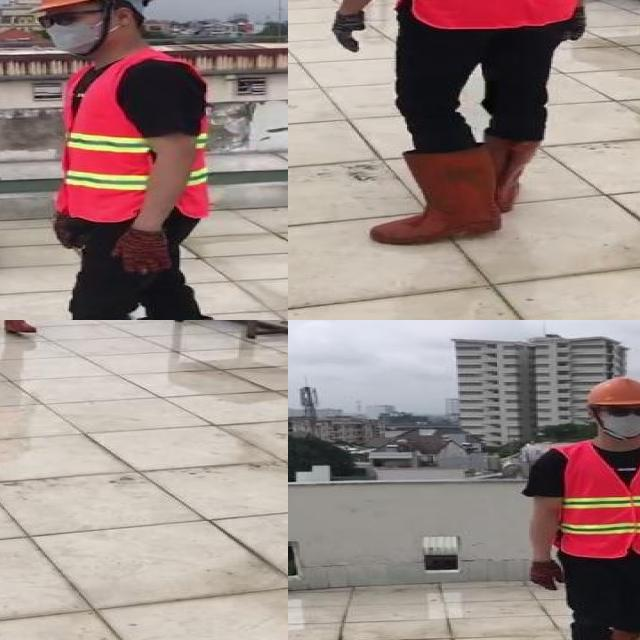boots: (377, 151, 498, 244), (488, 136, 538, 216), (0, 320, 39, 334)
face_mask: (34, 9, 104, 55), (599, 404, 640, 439)
glasses: (33, 8, 87, 32), (595, 402, 640, 420)
hand_glove: (114, 229, 172, 275), (329, 9, 368, 54), (50, 220, 88, 250), (527, 560, 565, 590), (564, 3, 588, 42)
head_helmet: (581, 374, 640, 409), (36, 0, 155, 11)
person: (314, 0, 611, 254), (0, 0, 220, 320), (518, 375, 640, 640)
vest: (57, 53, 213, 220), (559, 442, 640, 557)
